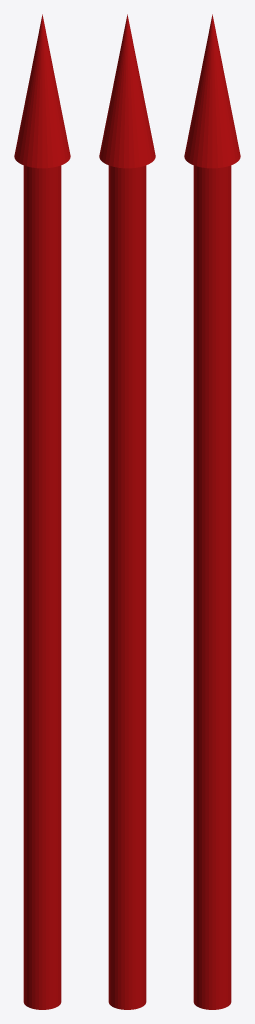
The model's file is gizmo.obj.
3 views of the same model, side by side, from view 1: azimuth 90°, elevation 25°; view 2: azimuth 150°, elevation 25°; view 3: azimuth 270°, elevation 25° (orthographic).
Parts seen in each view (by area): view 1: Cylinder; view 2: Cylinder; view 3: Cylinder.
Part boxes in pixels (x1=…): Cylinder: x1=14, y1=14, x2=70, y2=1009; Cylinder: x1=99, y1=14, x2=155, y2=1009; Cylinder: x1=184, y1=14, x2=240, y2=1009.
Size of the model in its own units: 0.0318 by 0.6141 by 0.0318.
